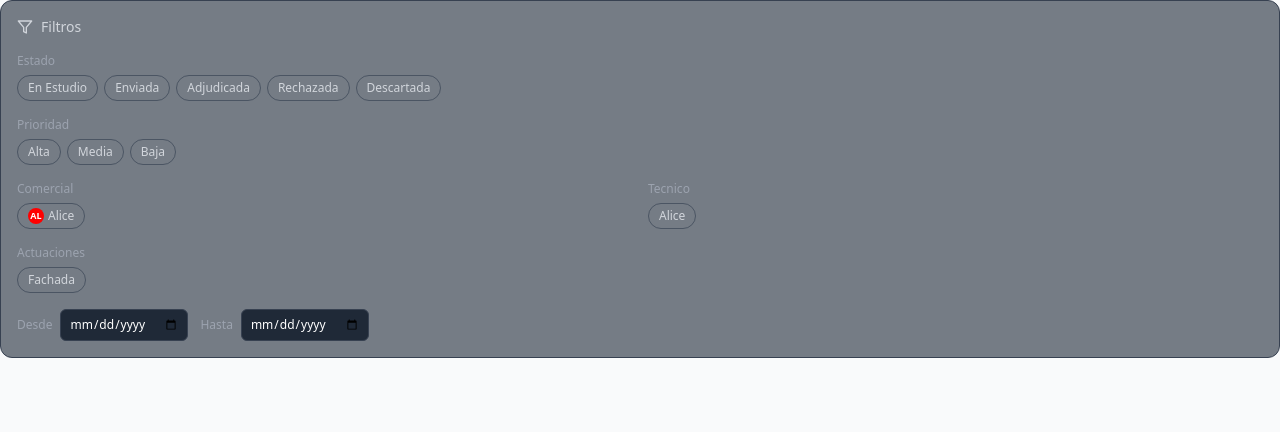
Test case: SolicitudesFilters › click en un estado dispara cambio en la URL
Click the button "Enviada" at (137, 88), box [104,75,170,101]
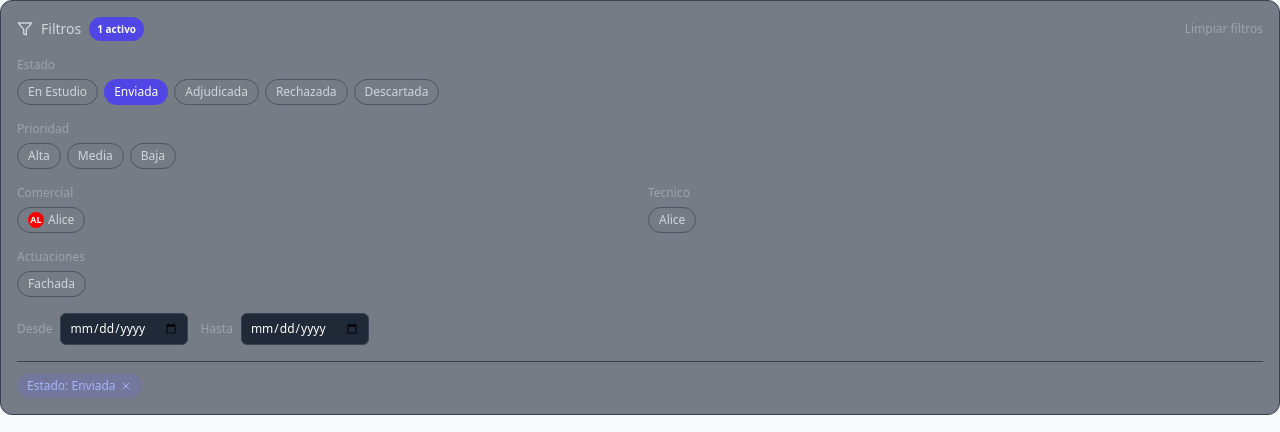
Expected: the text "Estado: Enviada" is shown, [17,374,142,398]
